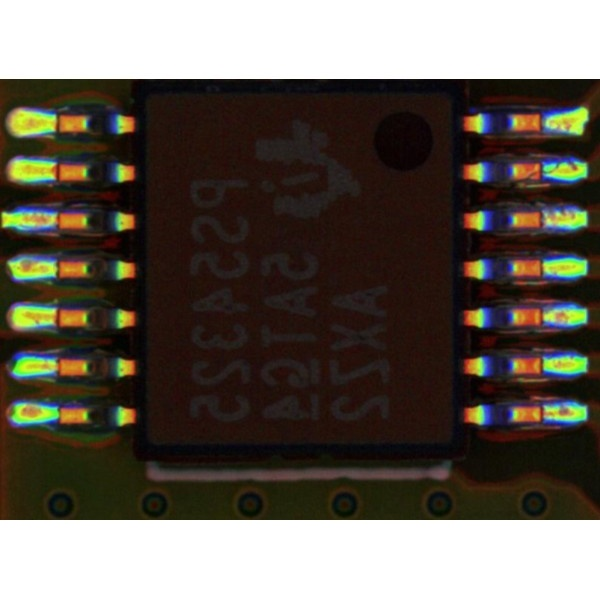Bad_podu: (37, 118, 76, 129), (38, 166, 70, 179), (41, 312, 72, 323), (40, 362, 76, 370), (532, 409, 560, 418)
